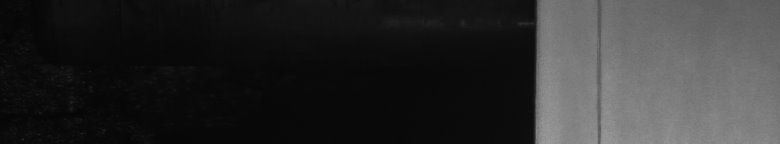hd: (592, 4, 608, 136)
